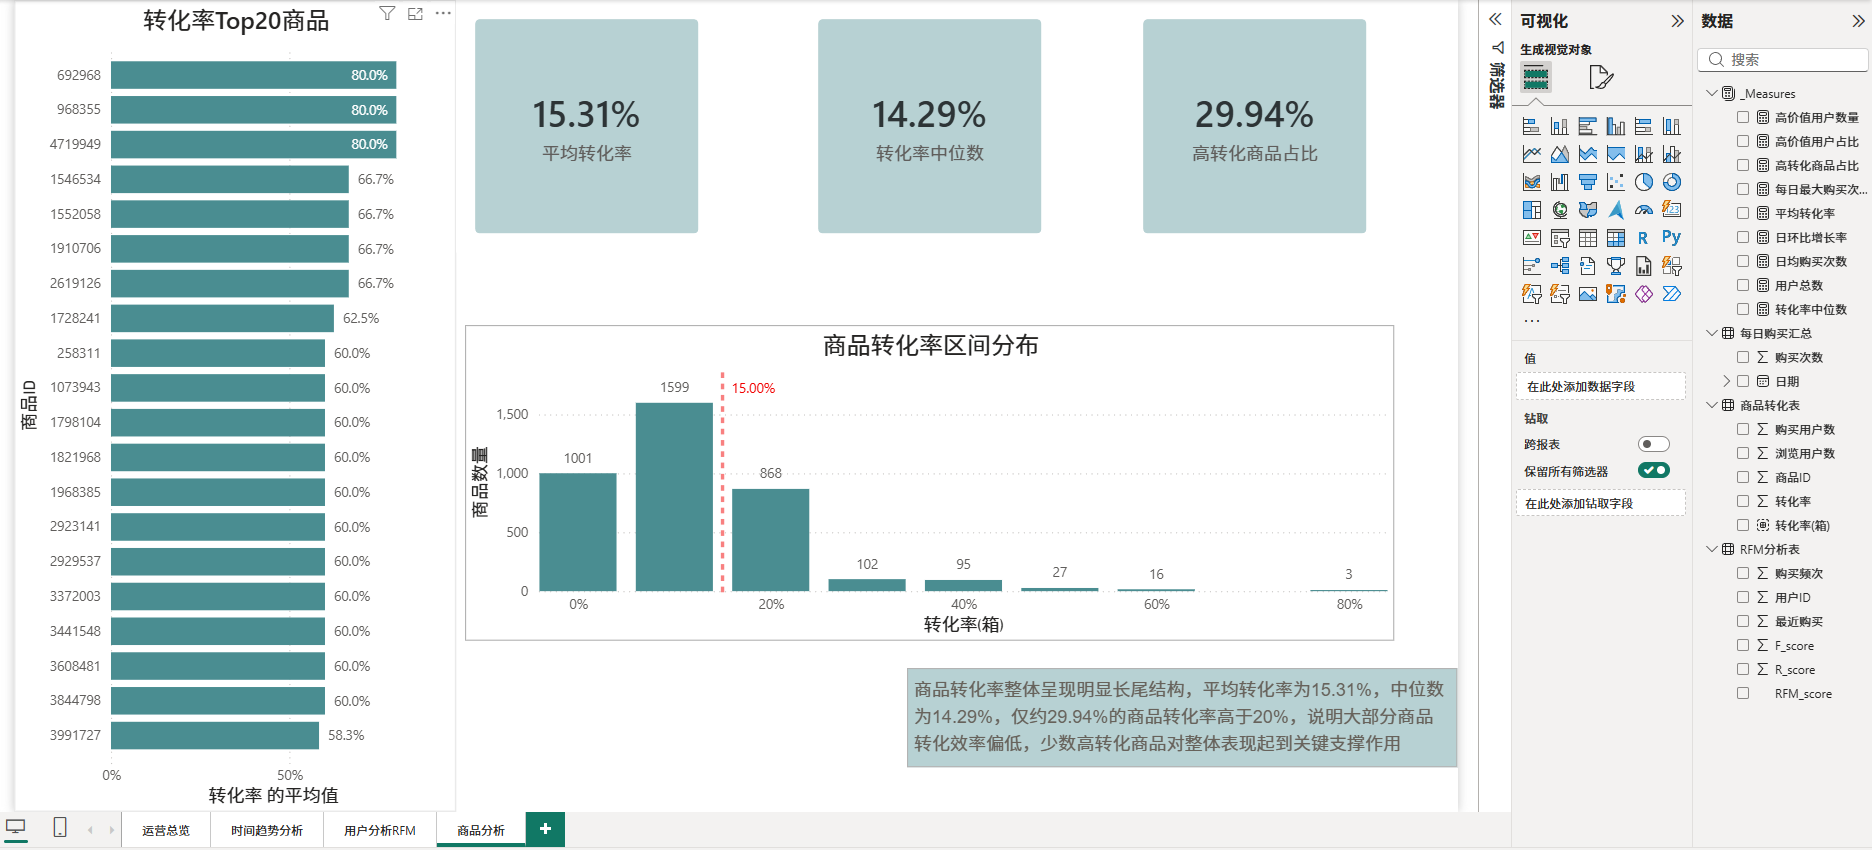

This screenshot's page, from the dashboard's own definition file:
{"tool":"powerbi","page":{"name":"商品分析","canvas":[1280,720],"ordinal":3},"visuals":[{"type":"barChart","title":"转化率Top20商品","fields":{"Y":["Avg(商品转化表.转化率)"],"Category":["商品转化表.商品ID"]},"box":[0,0,392,720],"z":0},{"type":"columnChart","title":"商品转化率区间分布","fields":{"Y":["CountNonNull(用户转化表.item_id)"],"Category":["商品转化表.转化率(箱)"]},"box":[400,288,824,280],"z":1000},{"type":"cardVisual","fields":{"Data":["Measures (.平均转化率"]},"box":[392,0,232,224],"z":2000},{"type":"textbox","box":[792,592,488,88],"z":3000},{"type":"cardVisual","fields":{"Data":["Measures (.转化率中位数"]},"box":[696,0,232,224],"z":4000},{"type":"cardVisual","fields":{"Data":["Measures (.高转化商品占比"]},"box":[984,0,232,224],"z":5000}]}

Visuals, with their boxes on the page's 1280x720 design canvas (x1, y1, x2, y2). These are canvas units, not pixel positions in the 1872x850 screenshot, which may show the page scaled, cropped or inside an application window:
"转化率Top20商品" barChart: 0 0 392 720
"商品转化率区间分布" columnChart: 400 288 1224 568
cardVisual - Measures (.平均转化率: 392 0 624 224
textbox: 792 592 1280 680
cardVisual - Measures (.转化率中位数: 696 0 928 224
cardVisual - Measures (.高转化商品占比: 984 0 1216 224
